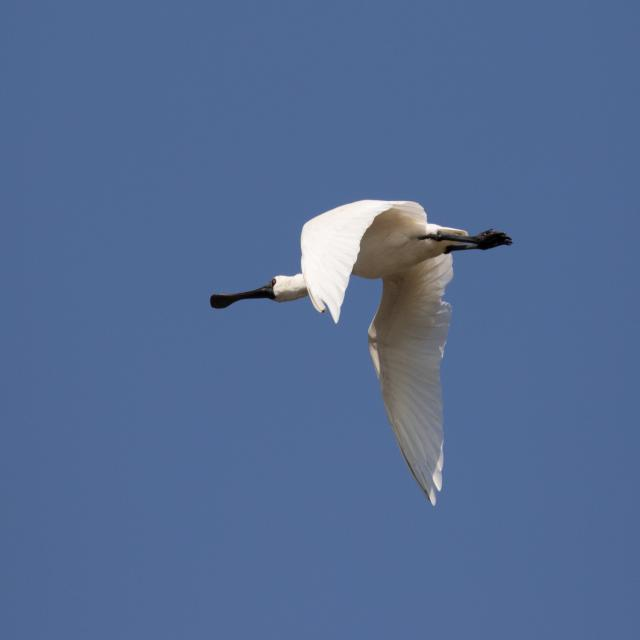Black-faced spoonbill: (211, 201, 511, 504)
